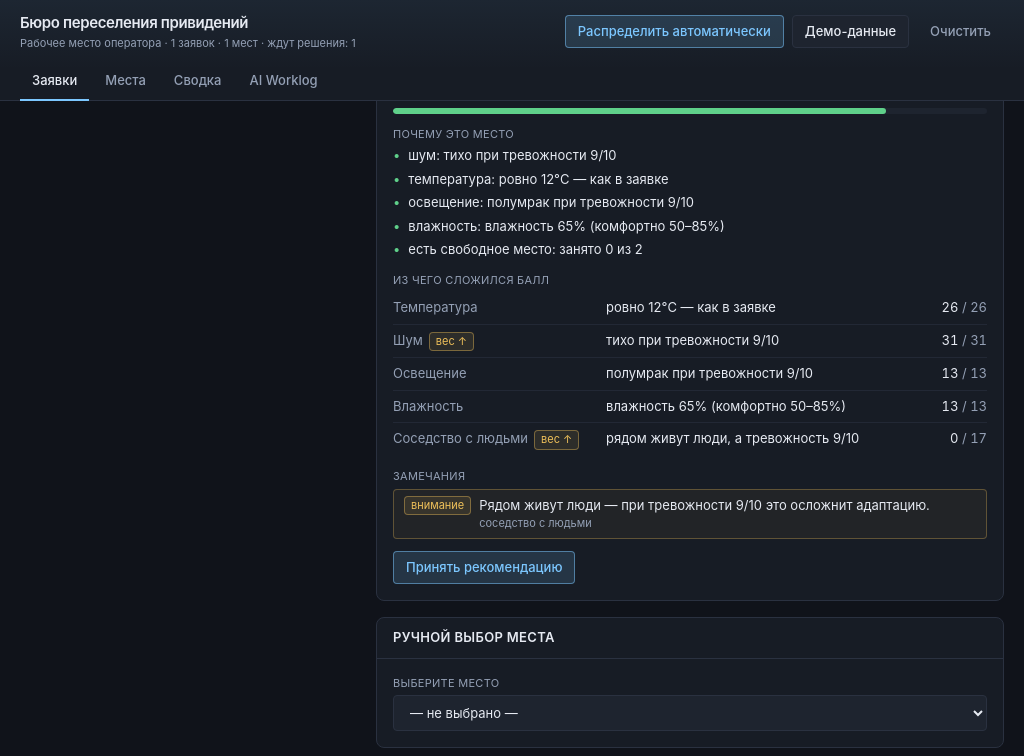
Test case: исправления по итогам второго ревью › принятие рекомендации с замечаниями сообщает о них
(page scrolled)
Click the button "Принять рекомендацию": (484, 567) [393,550,576,584]
(page scrolled)
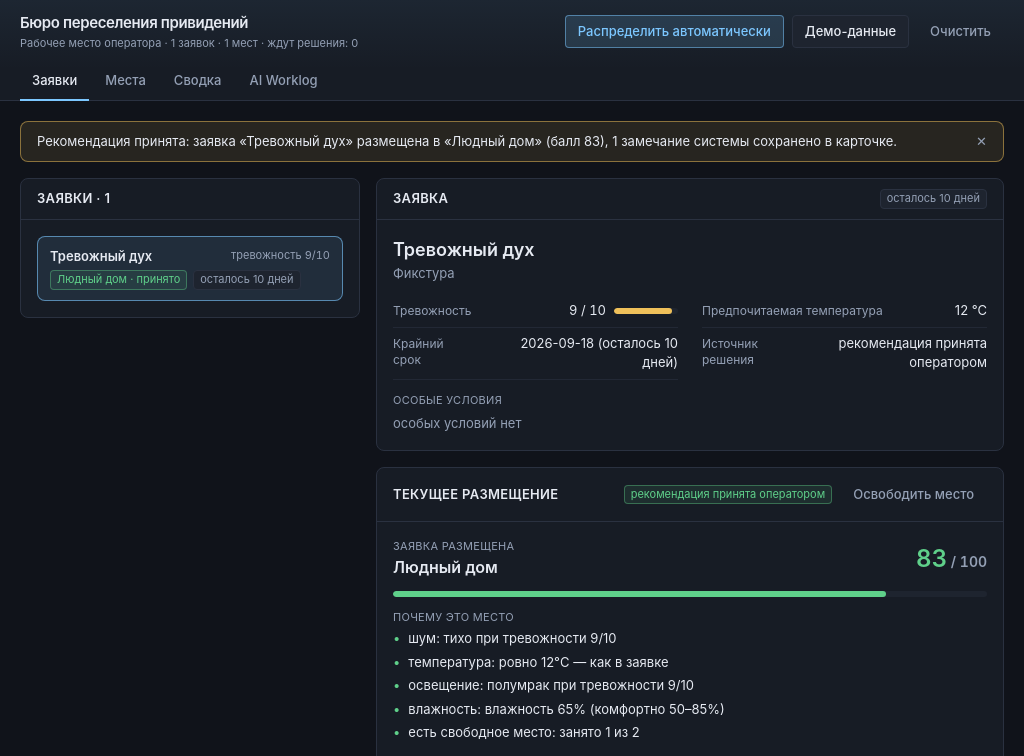
Expected: the text "Рекомендация принята" is shown, [37,132,897,148]
